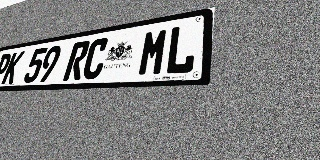5: (22, 47, 48, 83)
9: (36, 45, 63, 82)
C: (81, 37, 110, 80)
K: (1, 51, 25, 84)
L: (164, 23, 198, 75)
M: (137, 27, 170, 77)
P: (0, 53, 13, 85)
R: (62, 40, 91, 81)
